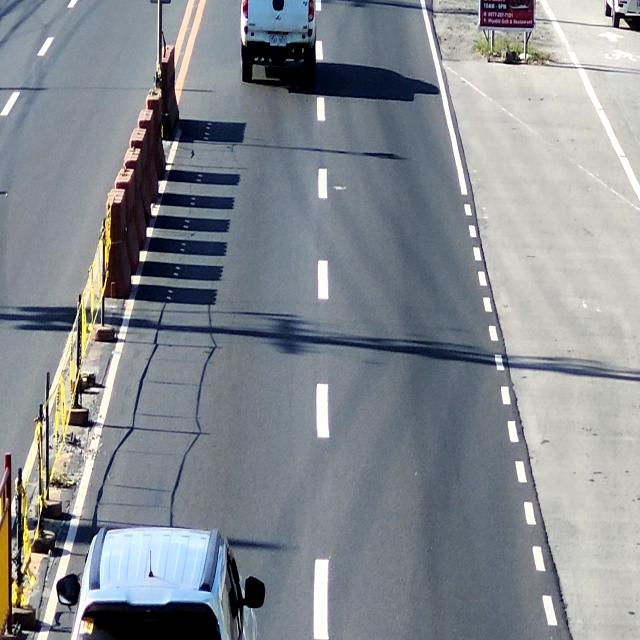Car: (61, 528, 266, 640), (240, 0, 319, 83)
License-Plate: (266, 32, 290, 54)
